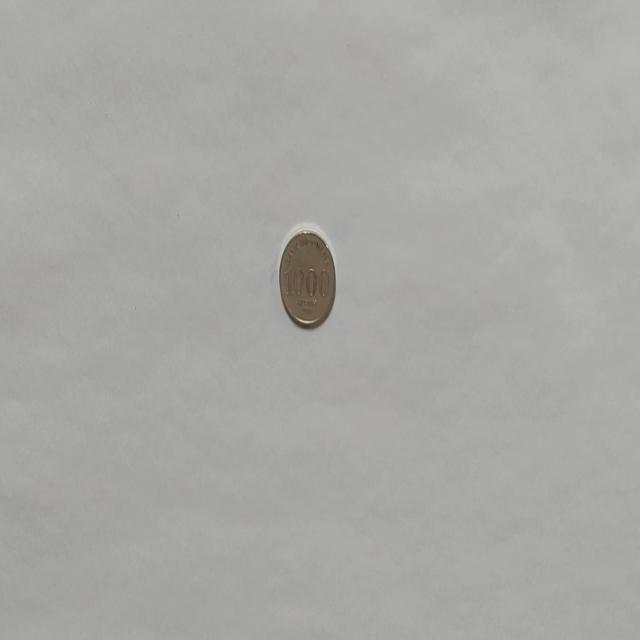seribu rupiah koin: (277, 224, 337, 330)
